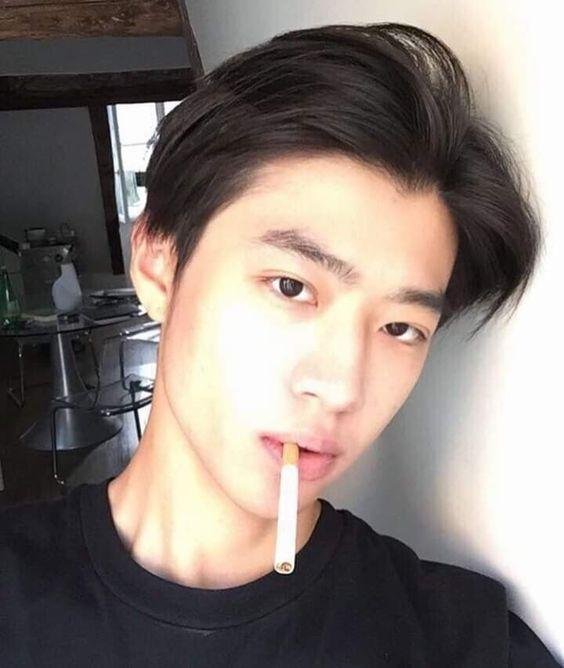cigarette: (274, 444, 299, 574)
